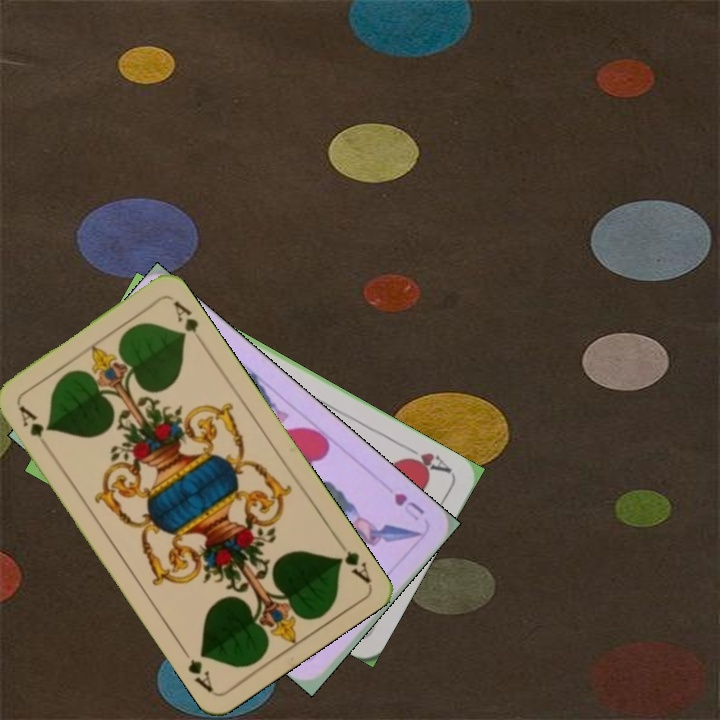GA: (332, 534, 374, 585), (15, 401, 53, 453)
HA: (398, 440, 454, 477)
HU: (390, 488, 427, 524)
